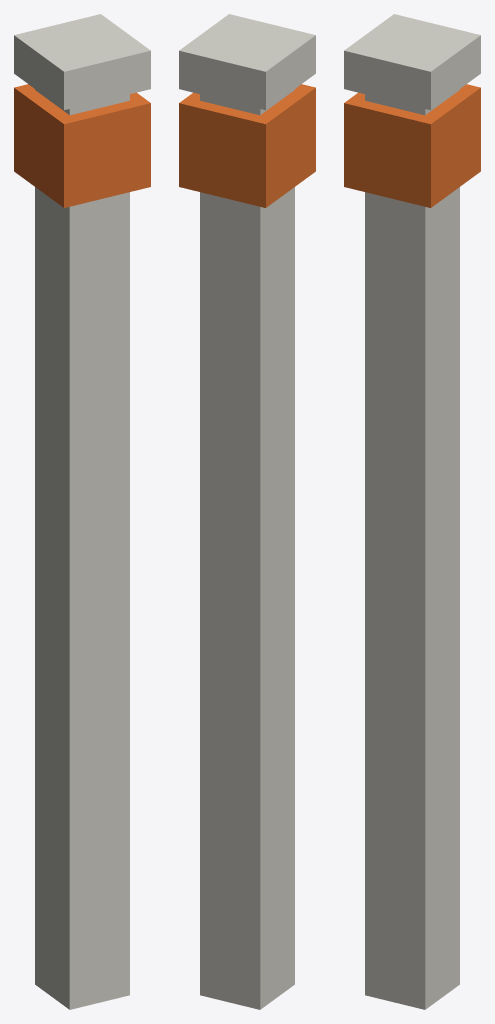
File: picket-fence-post-corner.glb
The picture shows the model from 3 angles, left to right: view 1: azimuth 30°, elevation 25°; view 2: azimuth 150°, elevation 25°; view 3: azimuth 330°, elevation 25°; orthographic projection.
Visible parts, largest first — view 1: Post_Shaft, Corner_Return, Post_Cap; view 2: Post_Shaft, Corner_Return, Post_Cap; view 3: Post_Shaft, Corner_Return, Post_Cap.
Boxes of the visible parts, bbox=[...] form: Post_Shaft: bbox=[35, 89, 129, 1009]; Corner_Return: bbox=[14, 84, 150, 207]; Post_Cap: bbox=[14, 14, 150, 110]; Post_Shaft: bbox=[200, 89, 294, 1009]; Corner_Return: bbox=[179, 84, 315, 207]; Post_Cap: bbox=[179, 14, 315, 110]; Post_Shaft: bbox=[365, 89, 459, 1009]; Corner_Return: bbox=[344, 84, 480, 207]; Post_Cap: bbox=[344, 14, 480, 110].
Size of the model in its own units: 0.13 by 1.35 by 0.13.
